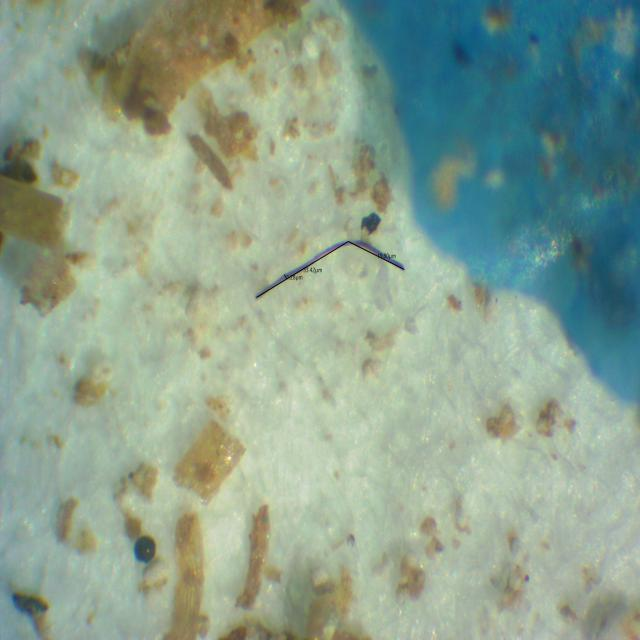microplastic: (341, 2, 640, 403), (254, 236, 412, 304)
